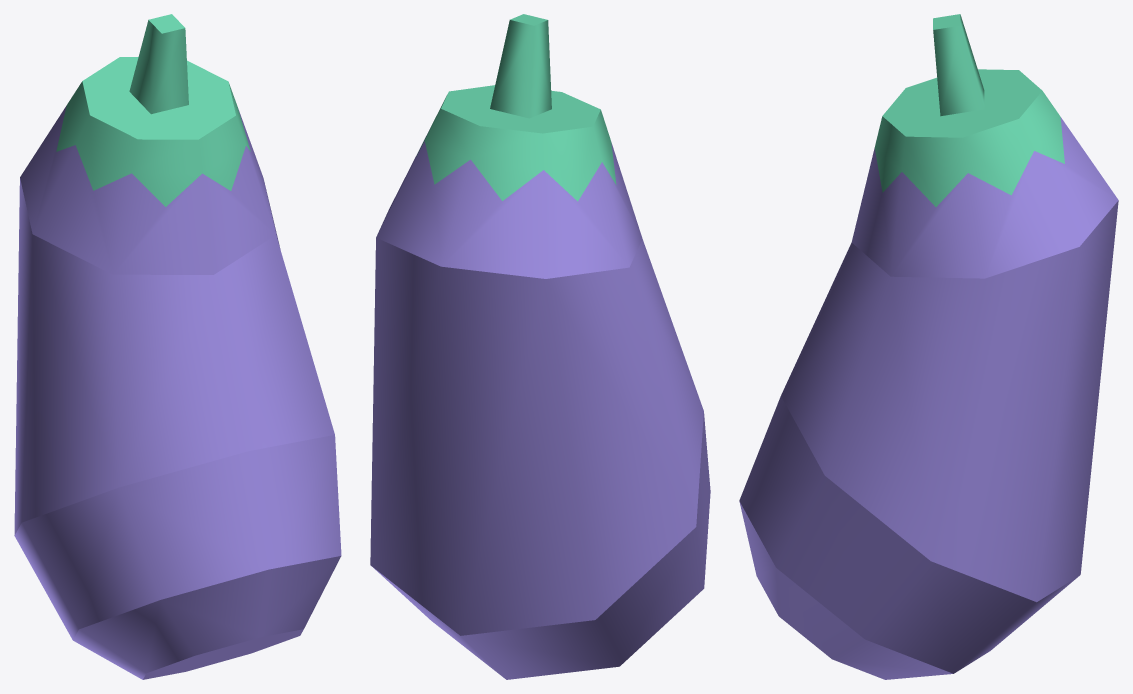
Rendered from eggplant.obj.
3 views of the same model, side by side, from view 1: azimuth 30°, elevation 25°; view 2: azimuth 150°, elevation 25°; view 3: azimuth 270°, elevation 25° (orthographic). The views are drawn at different scales.
Visible parts, largest first — view 1: eggplant; view 2: eggplant; view 3: eggplant.
Boxes of the visible parts, <box> form: eggplant: <box>14,14,341,679</box>; eggplant: <box>370,14,710,679</box>; eggplant: <box>739,14,1118,679</box>.
Bounding box in the file's own units: 0.204 × 0.4052 × 0.2156.
